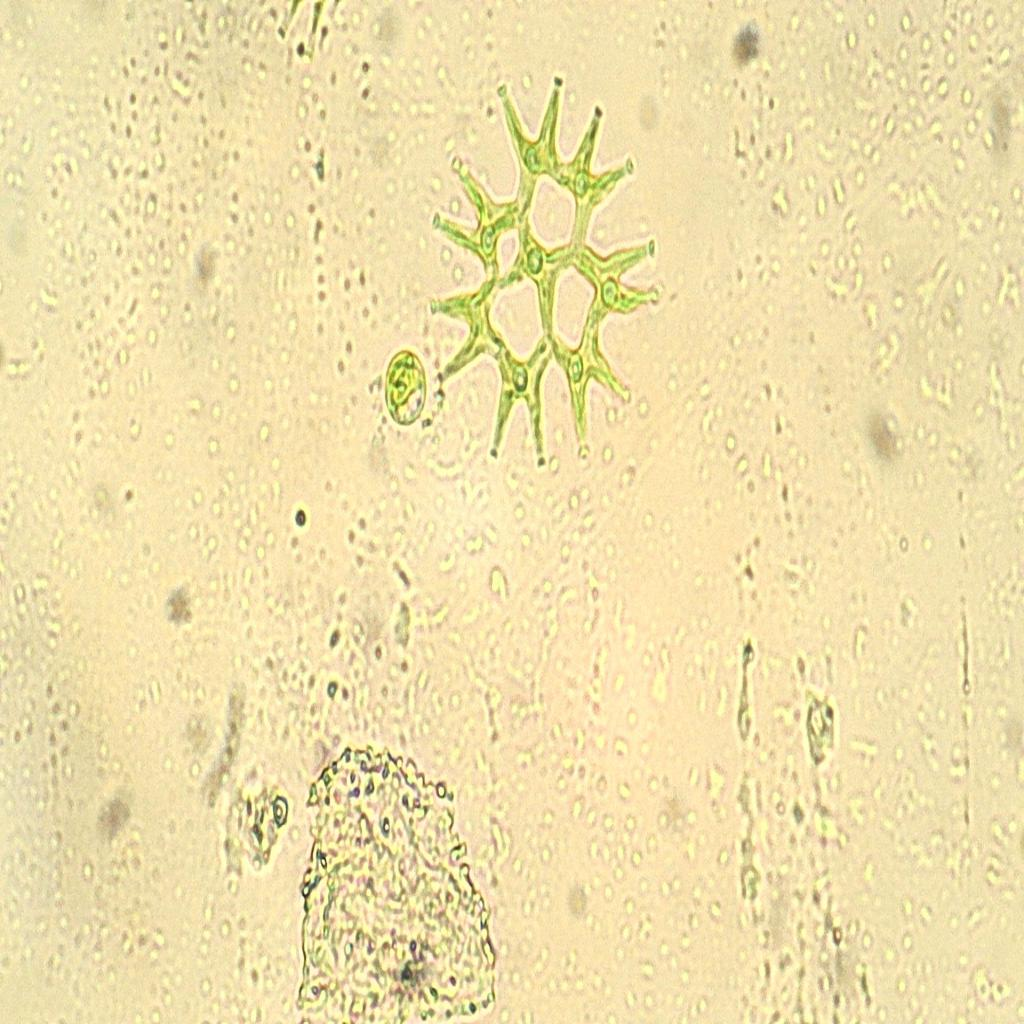Pediastrum_1T: (422, 42, 669, 501)
